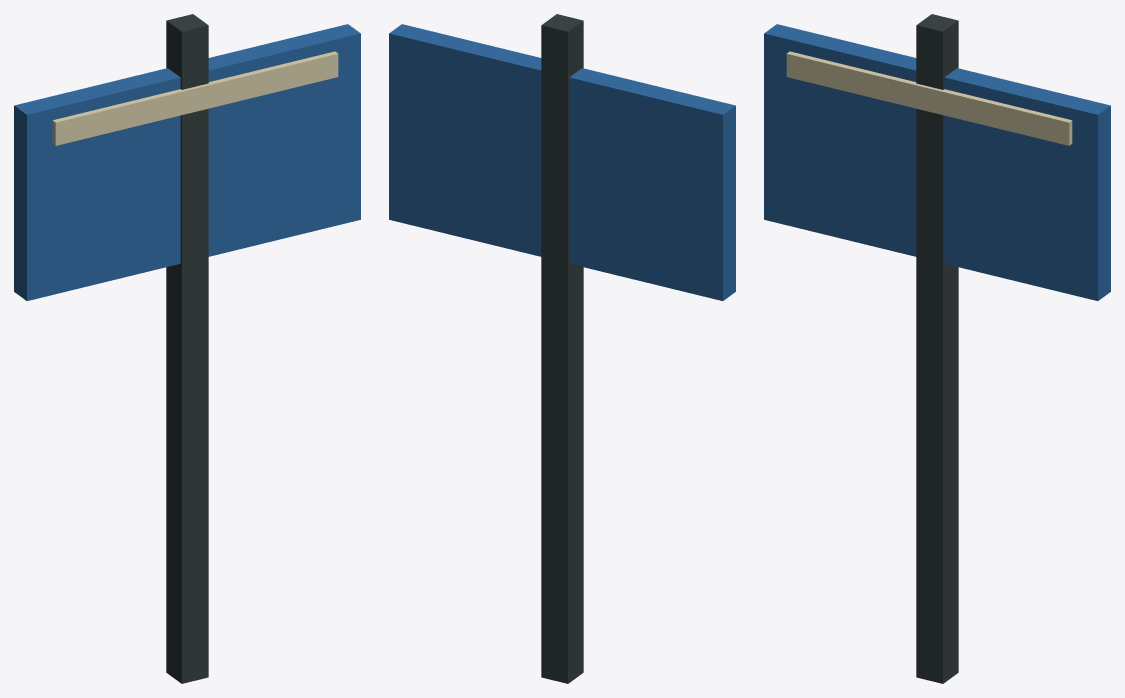
File: campus_sign.glb
3 renders of one model, left to right at view 1: azimuth 30°, elevation 25°; view 2: azimuth 150°, elevation 25°; view 3: azimuth 330°, elevation 25°, orthographic.
Parts seen in each view (by area): view 1: campus_sign; view 2: campus_sign; view 3: campus_sign.
Part boxes in pixels (bbox=[...]): campus_sign: bbox=[14, 14, 360, 683]; campus_sign: bbox=[389, 14, 735, 683]; campus_sign: bbox=[764, 14, 1110, 683].
Size of the model in its own units: 1.5 by 2.8 by 0.135.
